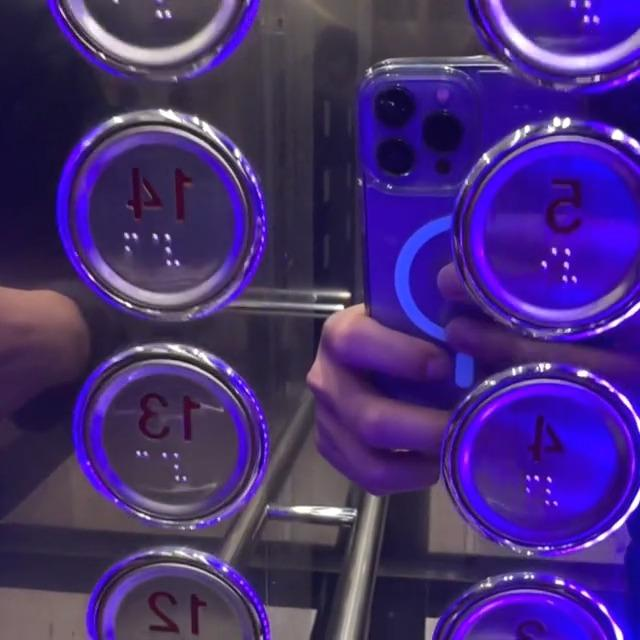button: (442, 123, 640, 331), (70, 118, 251, 305), (453, 360, 633, 544), (93, 351, 274, 523), (66, 552, 278, 640)
